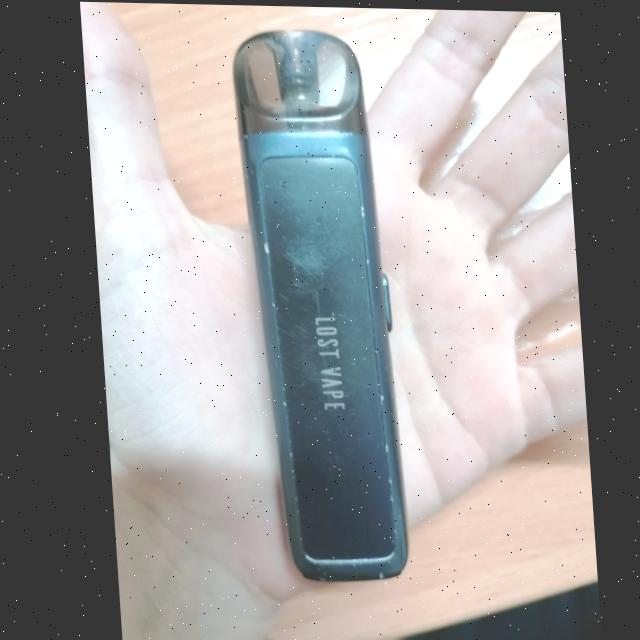vape: (229, 27, 405, 584)
